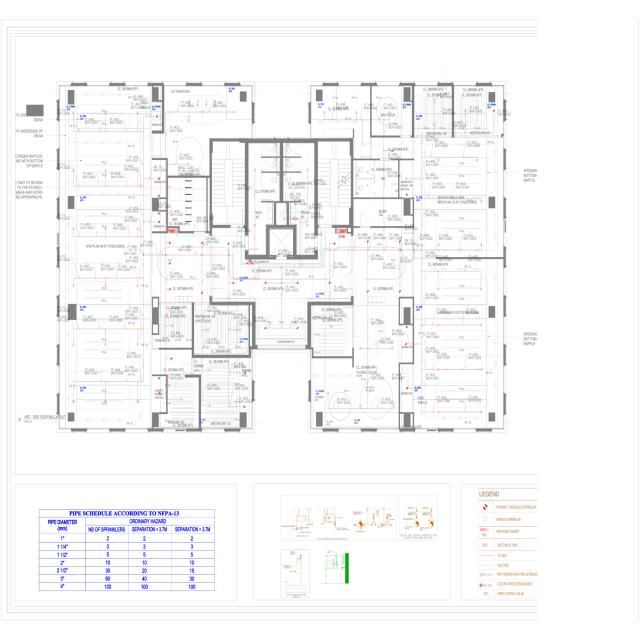fire_extinguisher: (201, 110, 204, 114)
hose_reel: (336, 227, 348, 235)
manual_call_point: (171, 109, 174, 115)
sprinkler: (195, 105, 201, 114), (423, 381, 428, 391), (203, 106, 209, 113), (212, 106, 218, 113), (423, 360, 428, 368), (101, 316, 107, 322), (335, 119, 341, 125), (352, 119, 358, 125), (423, 317, 427, 326), (443, 315, 449, 321), (67, 264, 71, 272), (67, 331, 71, 339), (139, 411, 143, 419), (423, 148, 427, 156), (423, 274, 427, 282), (493, 274, 497, 282), (346, 374, 354, 378), (85, 92, 91, 97), (100, 192, 106, 197), (100, 369, 106, 374), (117, 261, 123, 266), (459, 315, 464, 321), (443, 367, 449, 372), (423, 296, 427, 303), (441, 416, 448, 420), (423, 338, 426, 347), (424, 402, 427, 411), (101, 92, 106, 97), (85, 140, 90, 145), (459, 142, 464, 147), (475, 248, 480, 253), (459, 367, 464, 372), (117, 92, 123, 96), (117, 192, 123, 196), (67, 117, 70, 125), (139, 202, 142, 210), (139, 224, 142, 232), (67, 221, 70, 229), (67, 374, 70, 382), (67, 395, 70, 403), (139, 331, 142, 339), (139, 310, 142, 318), (101, 262, 107, 266), (474, 196, 480, 200), (458, 248, 464, 252), (443, 248, 449, 252), (473, 268, 479, 272), (474, 316, 480, 320), (494, 339, 497, 347), (314, 374, 320, 378), (330, 374, 336, 378), (67, 160, 70, 167), (67, 179, 70, 186), (67, 136, 70, 143), (139, 374, 142, 381), (139, 353, 142, 360), (139, 289, 142, 296), (139, 246, 142, 253), (494, 149, 497, 156), (423, 210, 426, 217), (494, 382, 497, 389), (494, 361, 497, 368), (101, 141, 106, 145), (85, 192, 90, 196), (85, 418, 90, 422), (318, 120, 323, 124), (458, 267, 463, 271), (475, 367, 480, 371), (458, 416, 463, 420), (474, 416, 479, 420), (139, 118, 142, 124), (139, 136, 142, 142), (139, 182, 142, 188), (68, 285, 70, 294), (117, 419, 123, 422), (85, 262, 91, 265), (494, 231, 496, 240), (118, 141, 122, 145), (68, 352, 70, 360), (102, 418, 106, 422), (140, 395, 142, 403), (424, 188, 426, 196), (442, 267, 446, 271), (140, 160, 142, 167), (68, 243, 70, 250), (140, 267, 142, 274), (424, 167, 426, 174), (494, 167, 496, 174)
